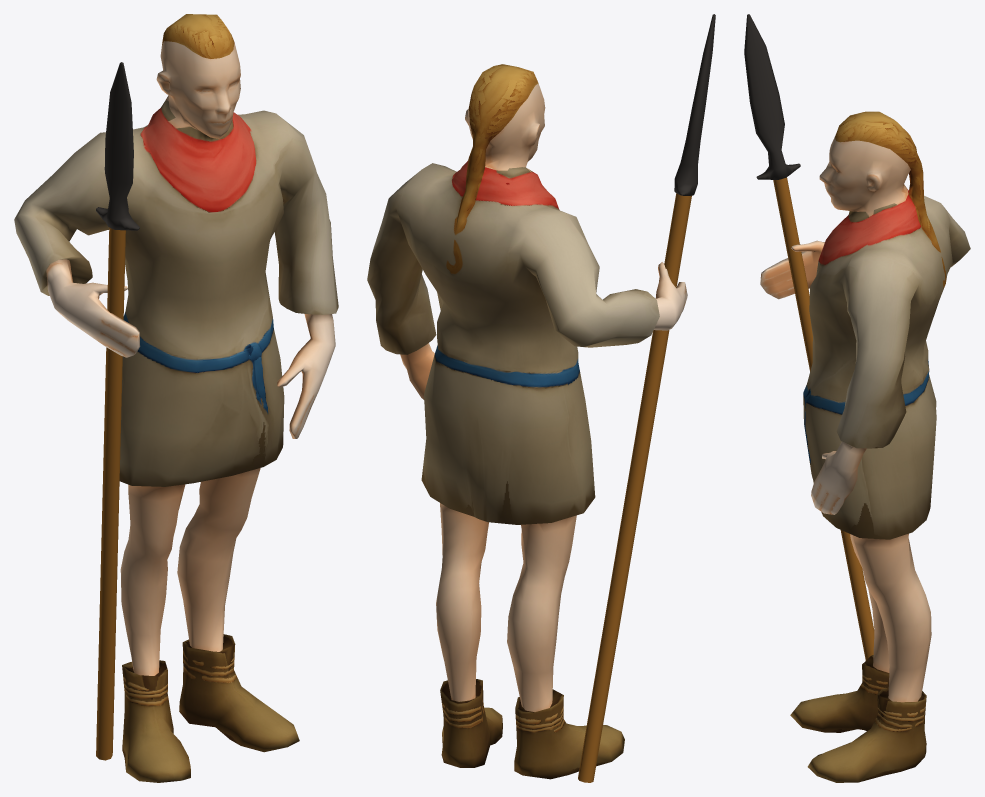
Rendered from Enemy_Final.obj.
3 renders of one model, left to right at view 1: azimuth 30°, elevation 25°; view 2: azimuth 150°, elevation 25°; view 3: azimuth 270°, elevation 25°, orthographic. The views are drawn at different scales.
Visible parts, largest first — view 1: Enemy_model, Spear_Model group; view 2: Enemy_model, Spear_Model group; view 3: Enemy_model, Spear_Model group.
Part boxes in pixels (x1,y1,x2,y2): Enemy_model: [14, 14, 338, 782]; Spear_Model group: [96, 62, 139, 760]; Enemy_model: [367, 64, 687, 779]; Spear_Model group: [578, 14, 715, 782]; Enemy_model: [760, 111, 970, 782]; Spear_Model group: [744, 14, 874, 660].
Bounding box in the file's own units: 7.69 × 19.03 × 5.81.
2 materials, 2 textured.
